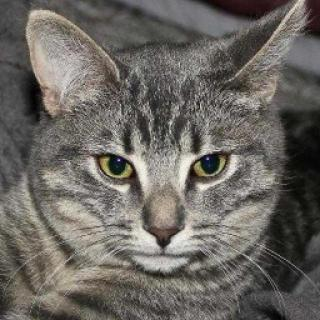cat: (26, 7, 300, 291)
nose: (140, 194, 187, 253)
